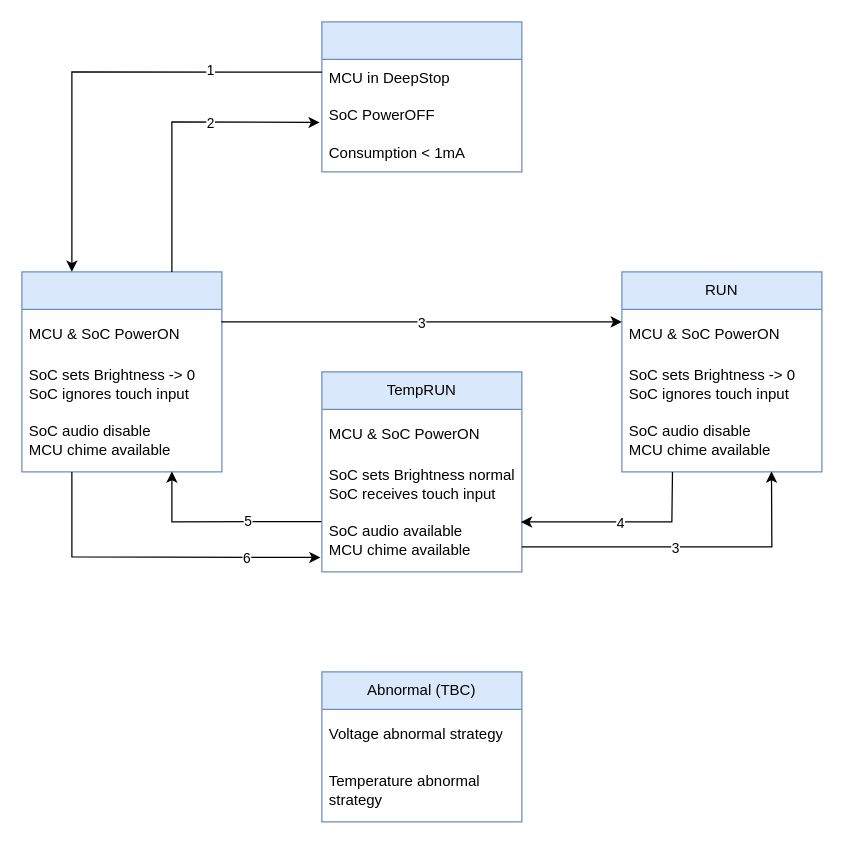
This 844x844 diagram has some shape labels left out. Here are the shapes that lost their labels. From the top down, the box of each, then its label:
(321, 21, 522, 172): Sleep
(21, 271, 222, 472): Standby
